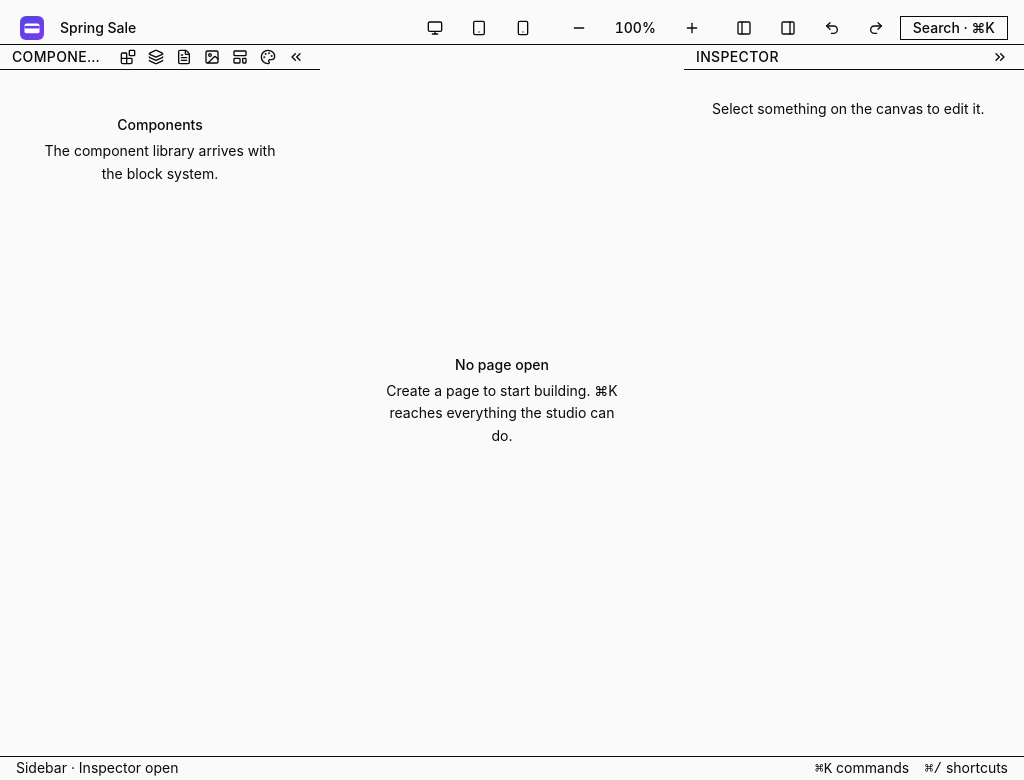
StudioShell › panels › collapses the sidebar to a rail that still reaches every tab
Click the button named "Toggle left sidebar".
click(744, 28)  # box [724,20,764,36]
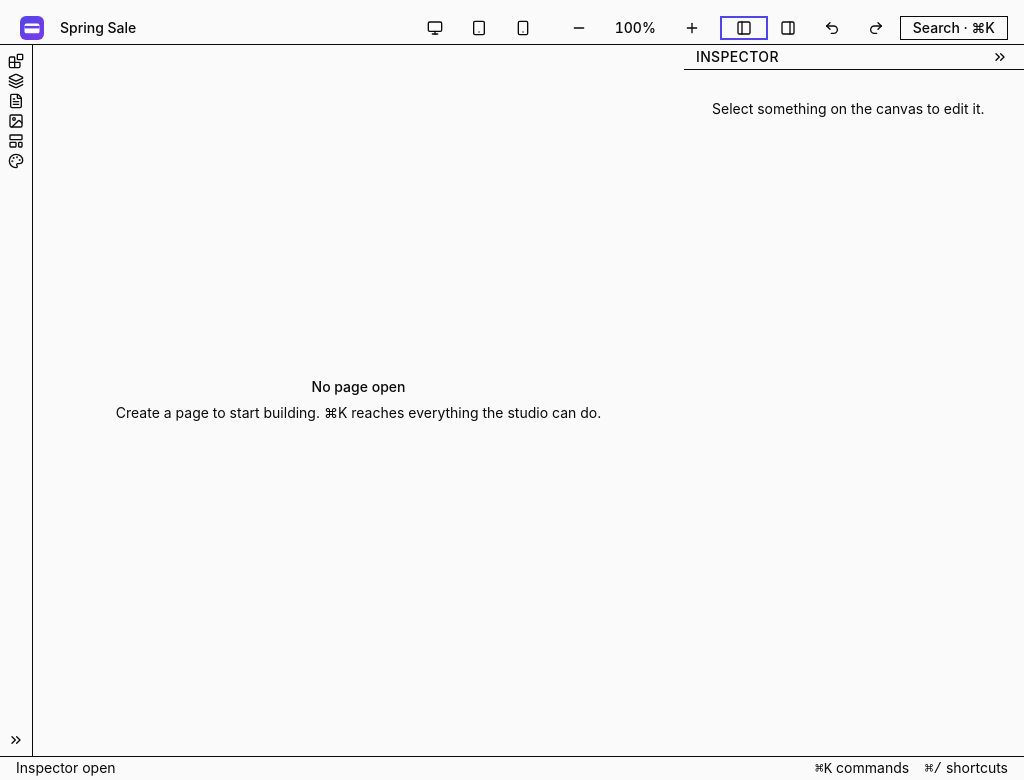
Expected: the number of tabs is 6, [8,53,24,69]; [8,73,24,89]; [8,93,24,109]; [8,113,24,129]; [8,133,24,149]; [8,153,24,169]
Expected: the heading "Components" is gone
Expected: the navigation bar named "Sidebar" is shown, [0,45,33,756]
